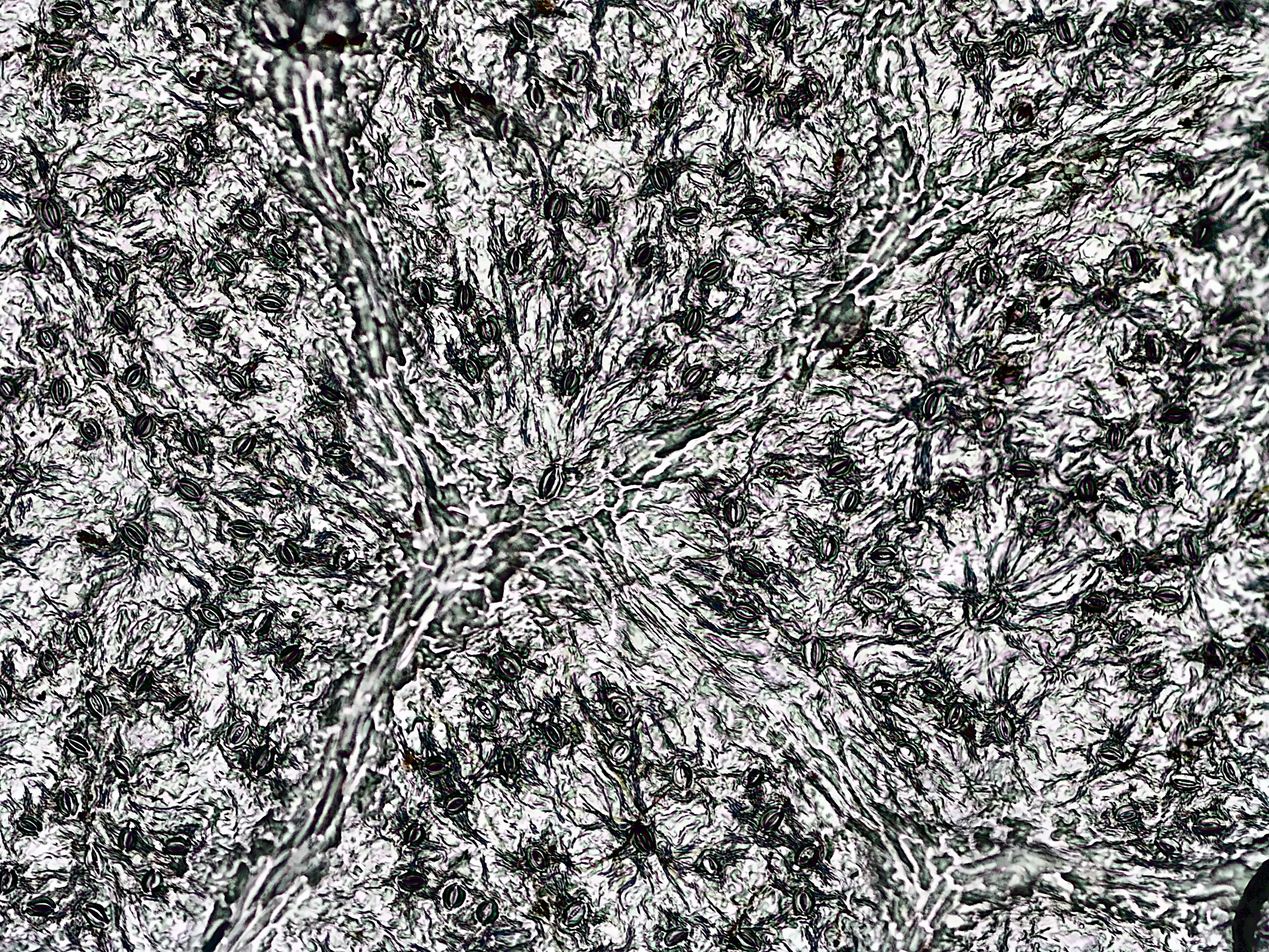stomata: (491, 650, 523, 683), (538, 466, 565, 503), (471, 695, 499, 728), (1178, 534, 1202, 571), (250, 744, 276, 777), (210, 84, 244, 109), (495, 110, 519, 144), (129, 411, 156, 441), (475, 315, 502, 345), (225, 719, 252, 749), (544, 191, 569, 223), (120, 521, 147, 550), (81, 902, 110, 929), (109, 305, 134, 336), (40, 197, 62, 232), (602, 103, 628, 132), (802, 637, 826, 668), (993, 712, 1016, 744), (275, 540, 301, 568), (84, 351, 109, 380), (84, 690, 109, 719), (497, 746, 519, 778), (632, 824, 654, 856), (681, 363, 707, 390), (606, 696, 632, 723), (404, 24, 428, 53), (510, 13, 534, 42), (649, 164, 673, 193), (541, 719, 565, 748), (808, 207, 841, 228), (55, 787, 78, 817), (723, 498, 746, 528), (85, 844, 104, 880), (49, 376, 71, 407), (222, 566, 253, 588), (699, 259, 725, 285), (758, 807, 784, 833), (960, 43, 985, 70), (129, 668, 154, 695), (198, 603, 226, 627), (742, 69, 764, 99), (259, 474, 289, 496), (26, 894, 56, 916), (398, 871, 429, 892), (608, 739, 634, 764), (794, 842, 819, 868), (121, 363, 145, 390), (977, 597, 1004, 621), (1202, 642, 1226, 669), (793, 887, 816, 915), (974, 260, 996, 289), (861, 588, 890, 610), (567, 54, 588, 84), (730, 602, 760, 623), (893, 617, 923, 638), (1010, 102, 1035, 127), (79, 417, 103, 443), (231, 433, 257, 457), (421, 229, 447, 253), (64, 733, 90, 757), (1055, 17, 1078, 44), (476, 899, 499, 926), (733, 929, 760, 952), (318, 382, 346, 404), (589, 195, 611, 223), (768, 14, 790, 42), (994, 365, 1022, 387), (946, 702, 968, 730), (1170, 773, 1204, 791), (1150, 587, 1182, 606), (427, 99, 451, 124), (451, 81, 471, 111), (177, 478, 202, 502), (182, 429, 205, 455), (712, 44, 738, 67), (980, 409, 1003, 435), (1113, 19, 1136, 45), (1117, 548, 1140, 574), (24, 246, 46, 273), (423, 755, 450, 777), (443, 883, 465, 910), (61, 82, 89, 103), (682, 307, 703, 335), (965, 344, 986, 372), (738, 195, 767, 215), (280, 645, 304, 669), (111, 756, 135, 780), (743, 556, 767, 580), (214, 252, 239, 275), (461, 358, 484, 383), (1141, 337, 1164, 362), (442, 793, 468, 815), (894, 743, 920, 765), (526, 846, 548, 872), (775, 94, 794, 124), (673, 759, 692, 789), (866, 547, 896, 566), (45, 38, 72, 59), (869, 680, 896, 701), (1156, 835, 1183, 856), (1222, 757, 1243, 784), (1082, 593, 1110, 613), (151, 167, 175, 190), (223, 371, 247, 394), (269, 237, 292, 261), (722, 159, 745, 183), (1095, 289, 1119, 312), (416, 277, 435, 306), (1123, 246, 1144, 272), (16, 815, 42, 836), (1077, 475, 1097, 502), (1009, 459, 1036, 479), (827, 456, 854, 476), (1135, 662, 1165, 680), (675, 206, 703, 225), (1165, 13, 1187, 37), (1180, 343, 1202, 367), (141, 870, 163, 894), (404, 823, 426, 847), (255, 294, 286, 311), (662, 97, 680, 126), (804, 72, 822, 101), (228, 520, 257, 538), (253, 610, 271, 639), (1095, 747, 1124, 765), (195, 319, 221, 339), (565, 900, 585, 926), (1186, 724, 1212, 744), (163, 836, 190, 855), (185, 133, 208, 155), (1003, 32, 1025, 55), (1192, 221, 1214, 244), (188, 22, 210, 45), (1175, 160, 1196, 184), (634, 243, 654, 268), (118, 828, 138, 853), (107, 260, 126, 286), (923, 390, 942, 416), (1194, 816, 1223, 833), (151, 239, 173, 261), (36, 328, 58, 350), (876, 344, 898, 366), (945, 479, 968, 500), (758, 465, 788, 481), (838, 488, 858, 512), (921, 676, 945, 696), (505, 247, 524, 272), (526, 81, 544, 107), (551, 257, 569, 283), (455, 284, 473, 310), (1214, 438, 1236, 459), (106, 190, 125, 214), (1033, 518, 1058, 536), (820, 536, 838, 561), (53, 2, 81, 18), (169, 274, 197, 290), (643, 346, 663, 368), (238, 211, 261, 230), (39, 652, 58, 675), (561, 368, 579, 392), (575, 307, 595, 328), (1115, 622, 1135, 643), (1250, 642, 1269, 664), (1011, 298, 1029, 321), (664, 928, 687, 946), (73, 623, 90, 647), (1114, 805, 1138, 822), (323, 443, 349, 458), (1107, 424, 1123, 448), (1035, 259, 1054, 279), (170, 696, 191, 714), (911, 490, 924, 519), (1162, 407, 1187, 422), (9, 468, 34, 483), (1145, 472, 1162, 494), (703, 854, 720, 875), (747, 769, 764, 788)
